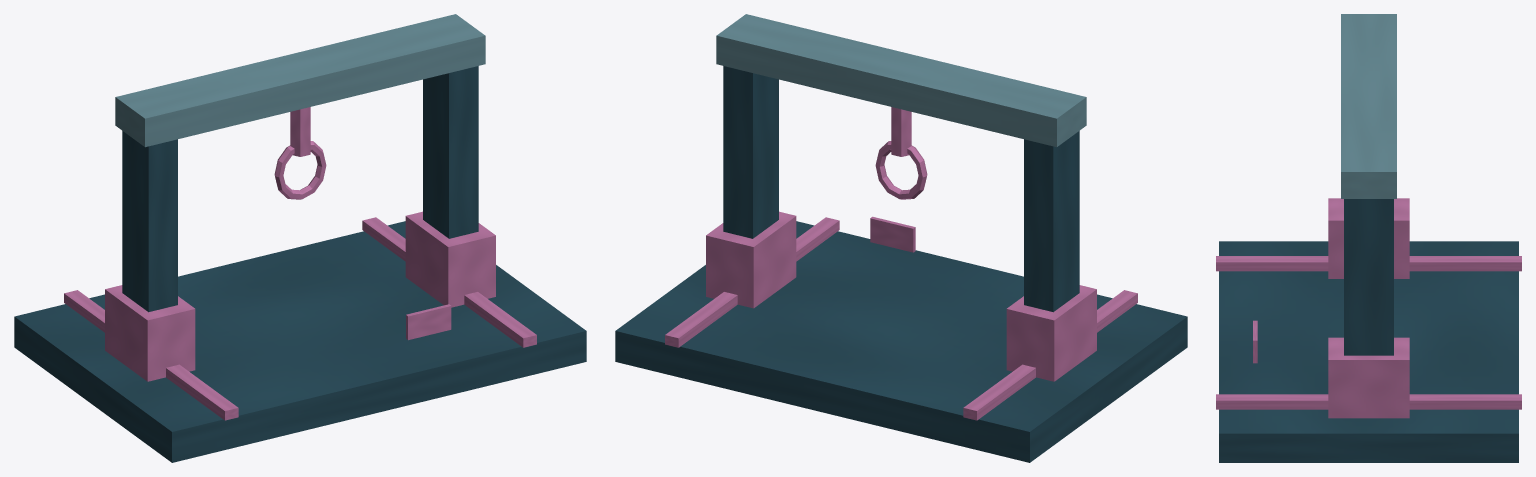
Rendered from atlas100-s069-a02.lod1.glb.
The picture shows the model from 3 angles, left to right: view 1: azimuth 30°, elevation 25°; view 2: azimuth 150°, elevation 25°; view 3: azimuth 270°, elevation 25°; orthographic projection. The views are drawn at different scales.
Parts seen in each view (by area): view 1: atlas100-s069-a02:part-000, atlas100-s069-a02:part-007, atlas100-s069-a02:part-003, atlas100-s069-a02:part-005, atlas100-s069-a02:part-004, atlas100-s069-a02:part-006, atlas100-s069-a02:part-002, atlas100-s069-a02:part-001, atlas100-s069-a02:part-009, atlas100-s069-a02:part-010, atlas100-s069-a02:part-008; view 2: atlas100-s069-a02:part-000, atlas100-s069-a02:part-007, atlas100-s069-a02:part-003, atlas100-s069-a02:part-005, atlas100-s069-a02:part-006, atlas100-s069-a02:part-004, atlas100-s069-a02:part-002, atlas100-s069-a02:part-001, atlas100-s069-a02:part-009, atlas100-s069-a02:part-010, atlas100-s069-a02:part-008; view 3: atlas100-s069-a02:part-000, atlas100-s069-a02:part-007, atlas100-s069-a02:part-005, atlas100-s069-a02:part-006, atlas100-s069-a02:part-002, atlas100-s069-a02:part-001, atlas100-s069-a02:part-004.
Part boxes in pixels (x1,y1,x2,y2): atlas100-s069-a02:part-000: (14,221,586,462); atlas100-s069-a02:part-007: (115,14,485,147); atlas100-s069-a02:part-003: (122,131,177,312); atlas100-s069-a02:part-005: (423,66,478,238); atlas100-s069-a02:part-004: (105,285,195,381); atlas100-s069-a02:part-006: (405,211,495,307); atlas100-s069-a02:part-002: (362,217,536,347); atlas100-s069-a02:part-001: (64,290,238,420); atlas100-s069-a02:part-009: (274,141,326,199); atlas100-s069-a02:part-010: (406,304,451,340); atlas100-s069-a02:part-008: (290,107,310,156); atlas100-s069-a02:part-000: (615,221,1187,462); atlas100-s069-a02:part-007: (716,14,1086,147); atlas100-s069-a02:part-003: (1024,131,1079,312); atlas100-s069-a02:part-005: (723,66,778,238); atlas100-s069-a02:part-006: (706,211,796,308); atlas100-s069-a02:part-004: (1006,285,1096,381); atlas100-s069-a02:part-002: (665,217,839,347); atlas100-s069-a02:part-001: (963,290,1137,420); atlas100-s069-a02:part-009: (875,141,927,199); atlas100-s069-a02:part-010: (870,216,915,252); atlas100-s069-a02:part-008: (891,107,911,156); atlas100-s069-a02:part-000: (1219,241,1518,462); atlas100-s069-a02:part-007: (1341,14,1396,198); atlas100-s069-a02:part-005: (1344,199,1393,355); atlas100-s069-a02:part-006: (1328,337,1409,418); atlas100-s069-a02:part-002: (1216,394,1521,409); atlas100-s069-a02:part-001: (1216,256,1521,271); atlas100-s069-a02:part-004: (1328,198,1409,278).
Bounding box in the file's own units: 3.64 × 2.42 × 2.45.
3 materials, 3 textured.
